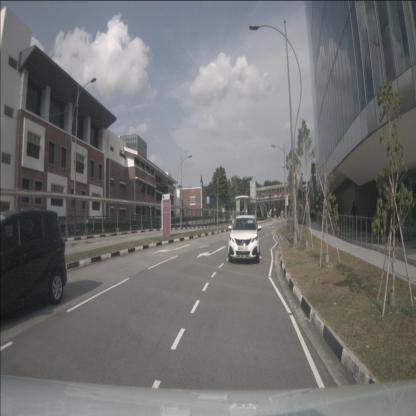human-pedestrian-adult: (350, 202, 357, 233), (311, 208, 314, 222)
vehicle-car: (0, 209, 68, 317), (228, 214, 260, 263)
